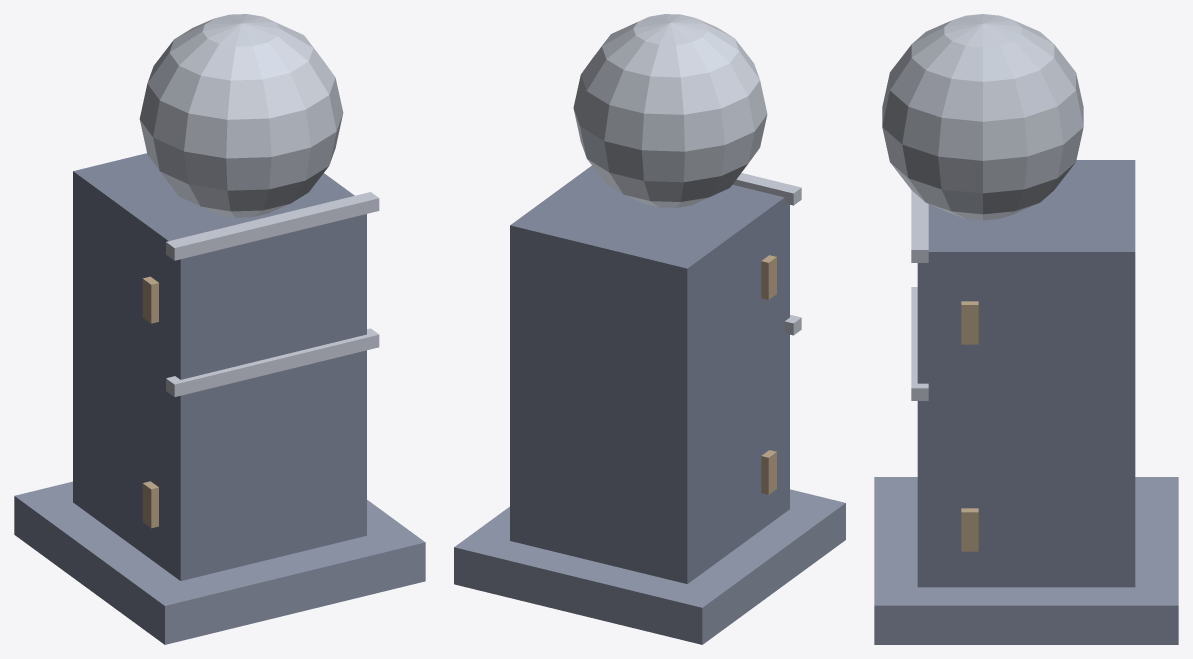
The model's file is canon_base.glb.
The picture shows the model from 3 angles, left to right: view 1: azimuth 30°, elevation 25°; view 2: azimuth 150°, elevation 25°; view 3: azimuth 270°, elevation 25°; orthographic projection. The views are drawn at different scales.
Visible parts, largest first — view 1: canon_base; view 2: canon_base; view 3: canon_base.
Part boxes in pixels (box(x1,y1,x2,y2)): canon_base: box(14, 14, 425, 644); canon_base: box(454, 14, 845, 644); canon_base: box(874, 14, 1178, 644).
Size of the model in its own units: 2.8 by 5.65 by 2.8.
